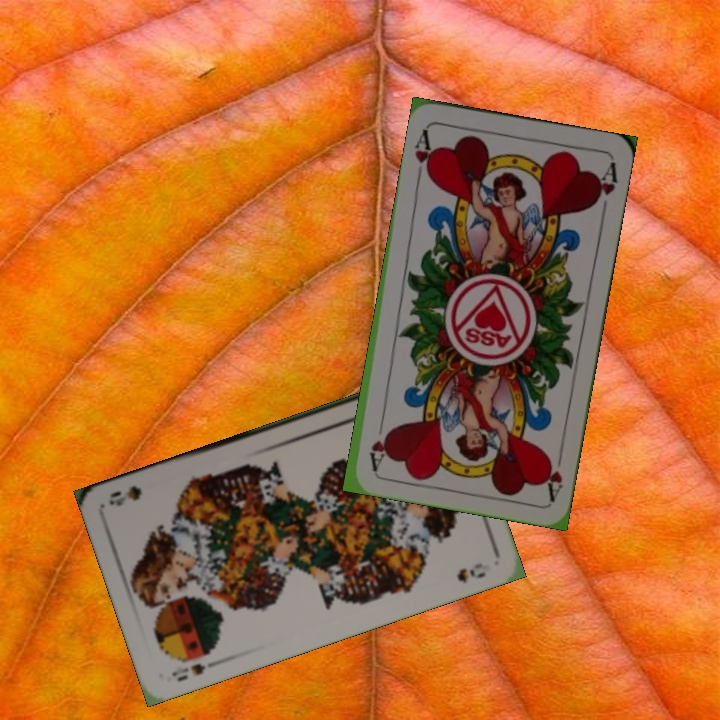HA: (410, 125, 438, 183), (539, 443, 566, 502)
SO: (167, 656, 222, 684)
